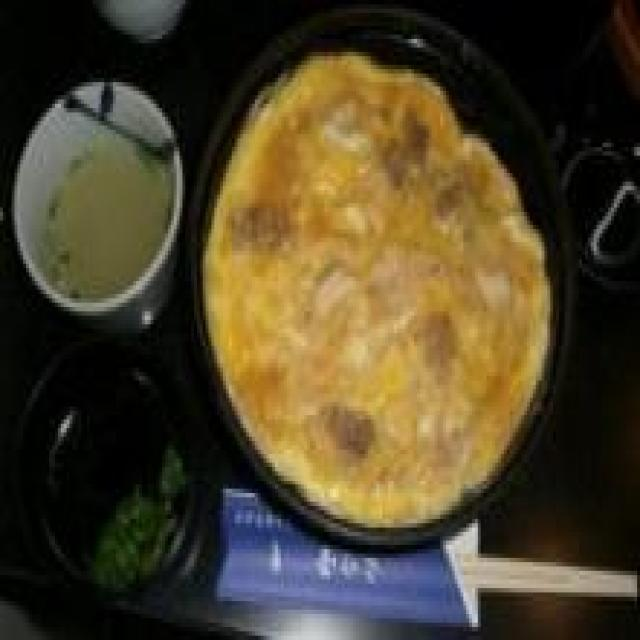米饭主食: (182, 0, 562, 554)
